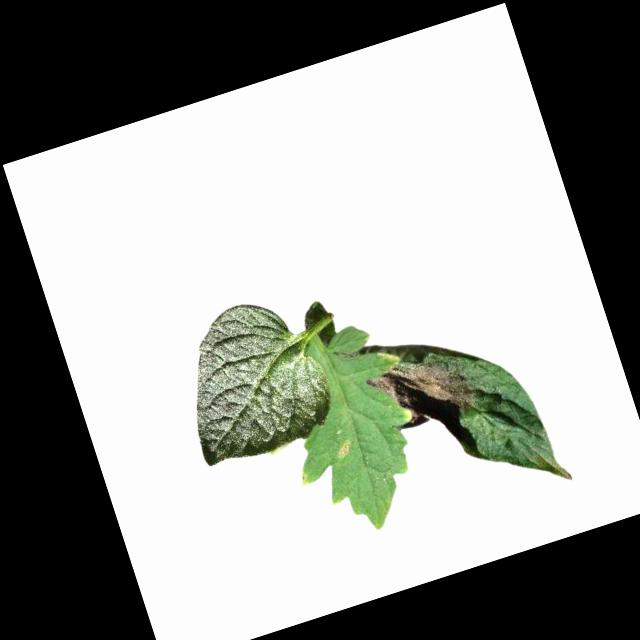Late_blight: (365, 346, 480, 437), (376, 347, 402, 370), (334, 439, 354, 459), (296, 469, 313, 489)
healthy: (161, 286, 342, 473)
